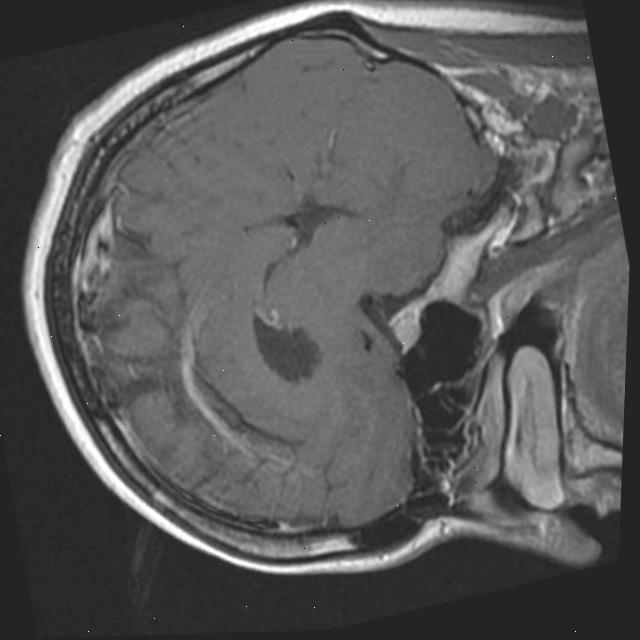Pituitary: (382, 295, 430, 357)
